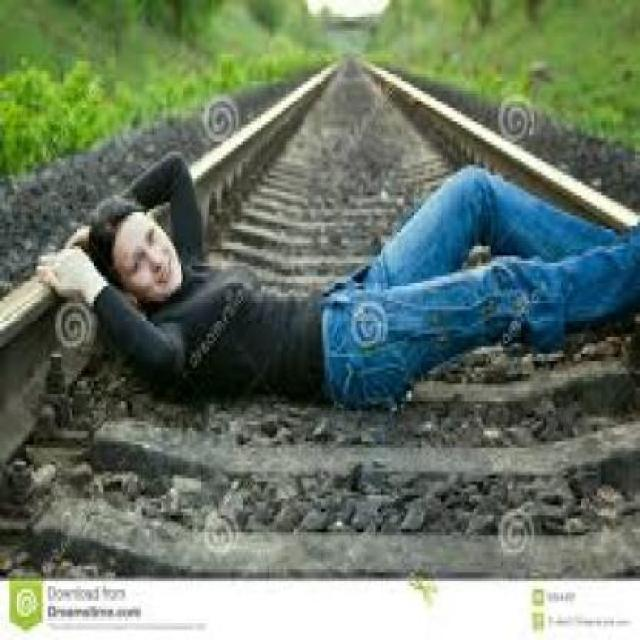danger: (58, 157, 637, 405)
rail: (0, 37, 636, 581)
